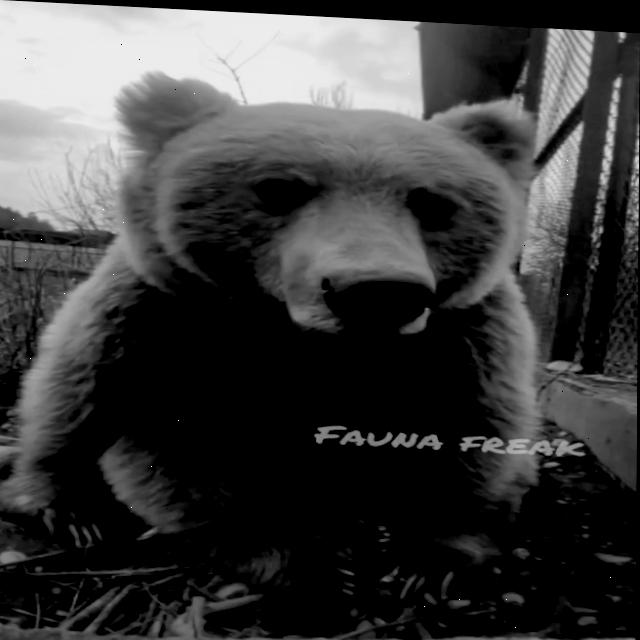Bear: (0, 61, 547, 636)
